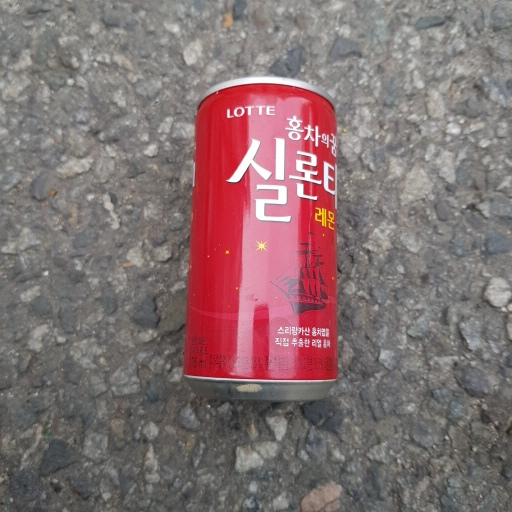Metal_0: (174, 76, 345, 406)
